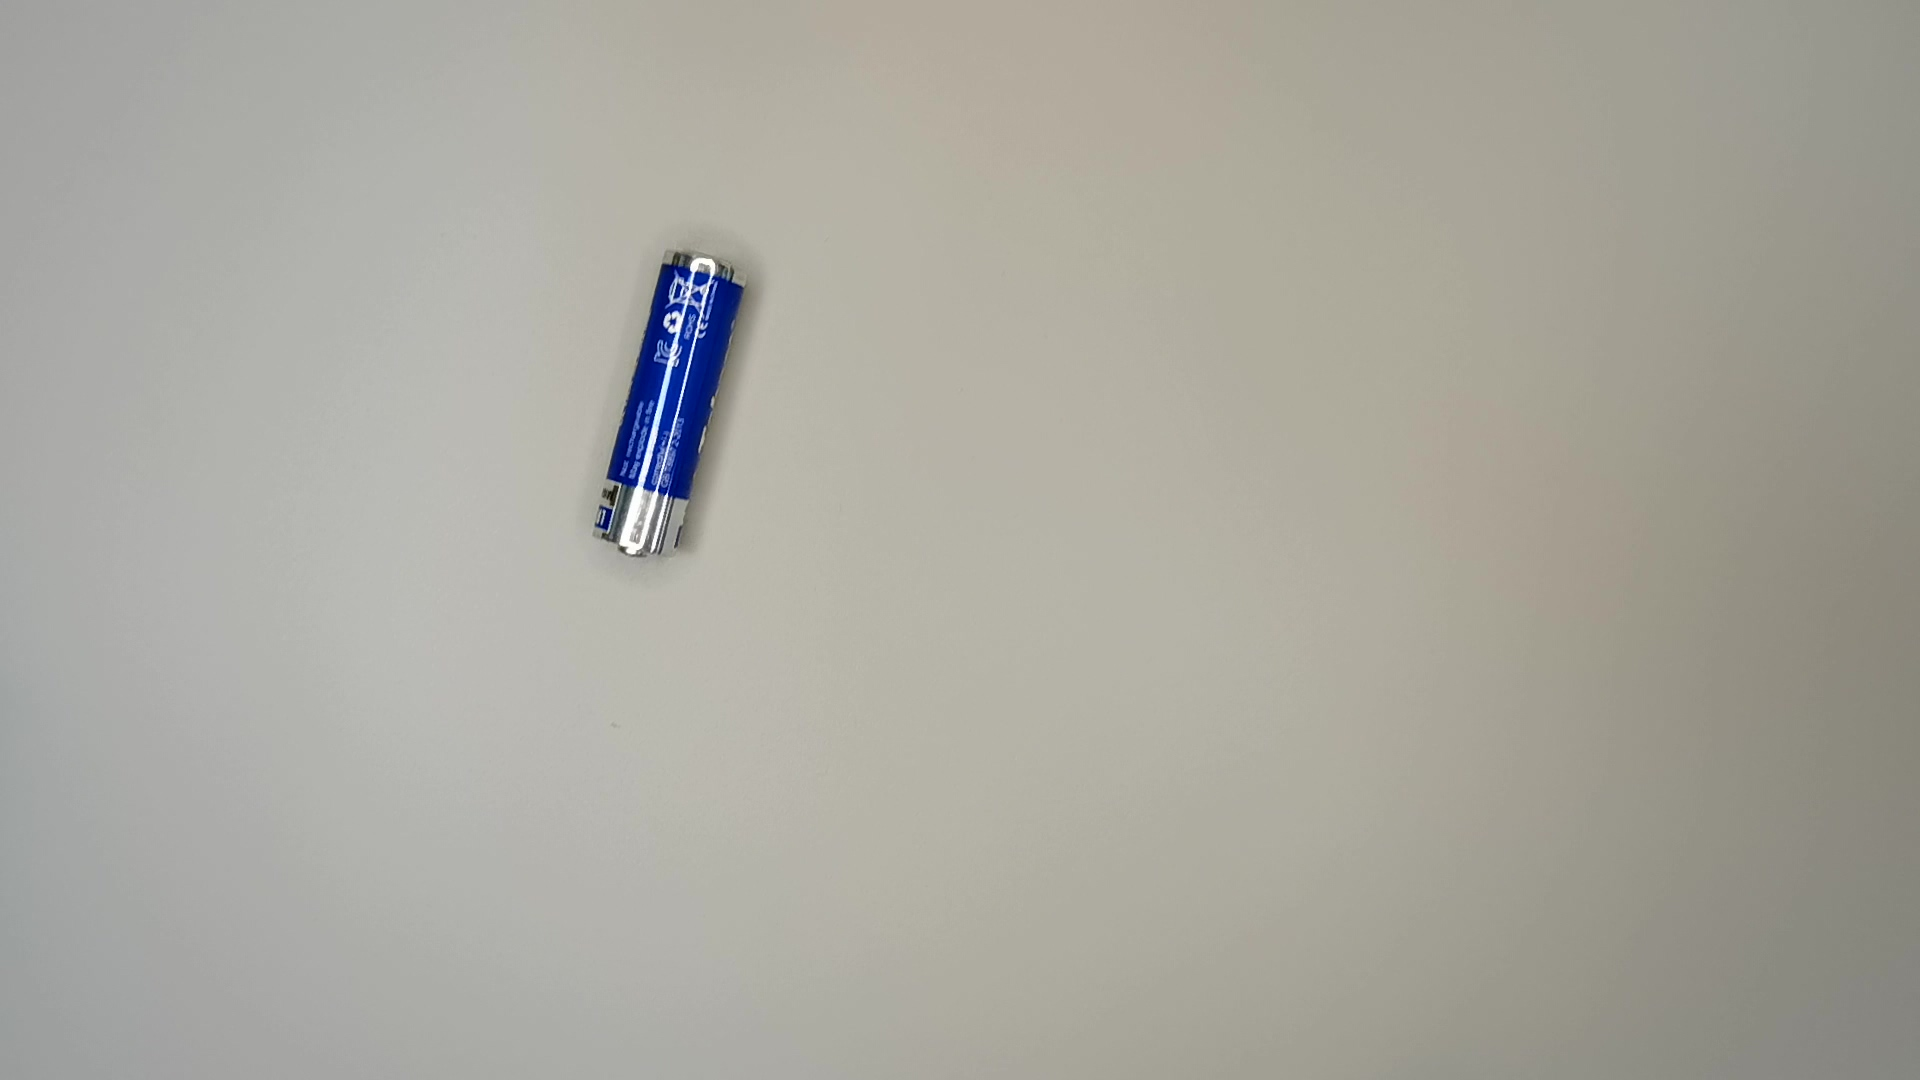battery: (585, 243, 749, 560)
